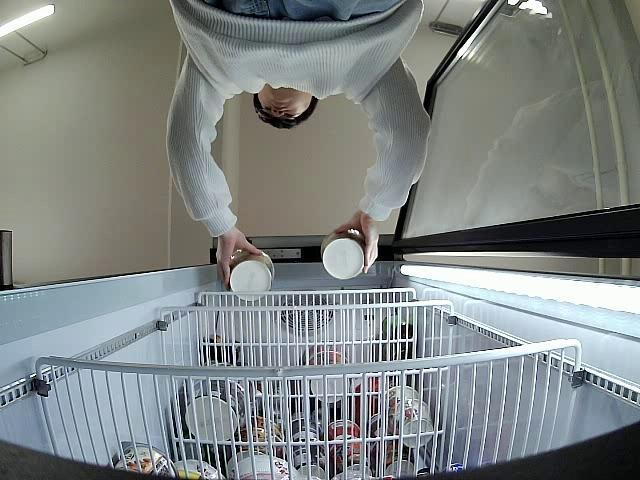03_chapagetti_L: (228, 248, 276, 303), (320, 230, 366, 280)
